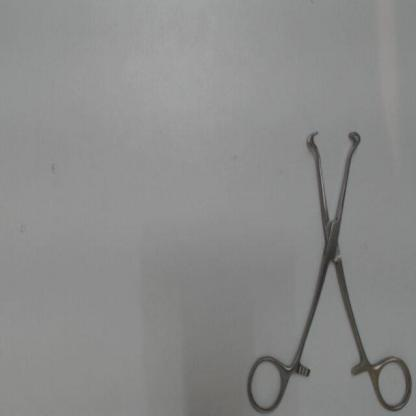Babcock Tissue Forceps: (236, 124, 414, 414)
